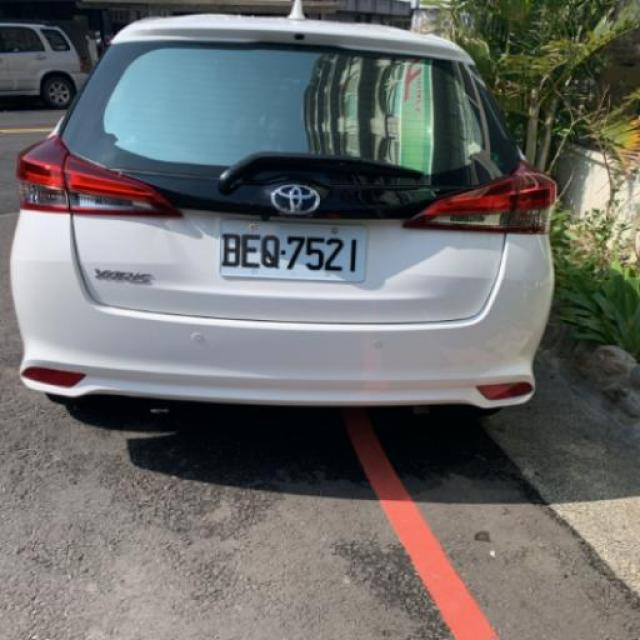illegalparking: (0, 6, 562, 519)
